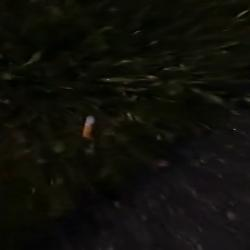Restaffald: (80, 116, 98, 139)
